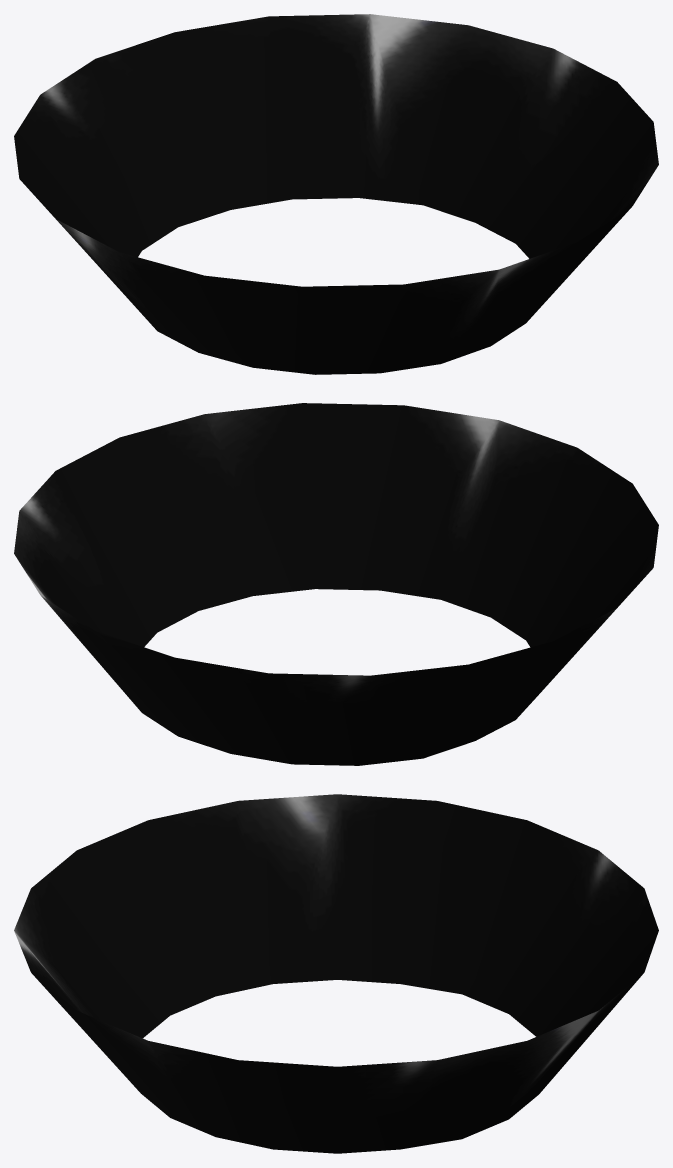
Rendered from 0128_S_FX_Huan_001.glb.
The picture shows the model from 3 angles, top to bottom: view 1: azimuth 30°, elevation 25°; view 2: azimuth 150°, elevation 25°; view 3: azimuth 270°, elevation 25°; orthographic projection.
Bounding box in the file's own units: 2.2 × 0.5131 × 2.2.
1 material, 1 textured.
